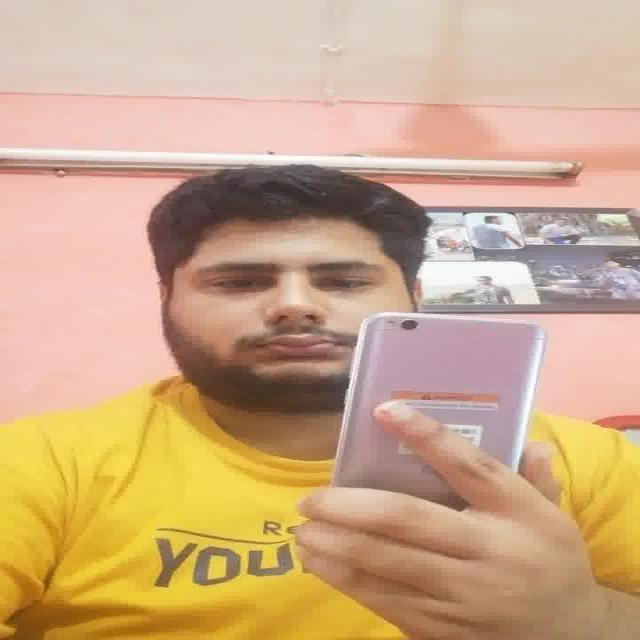Phone: (333, 312, 550, 496)
